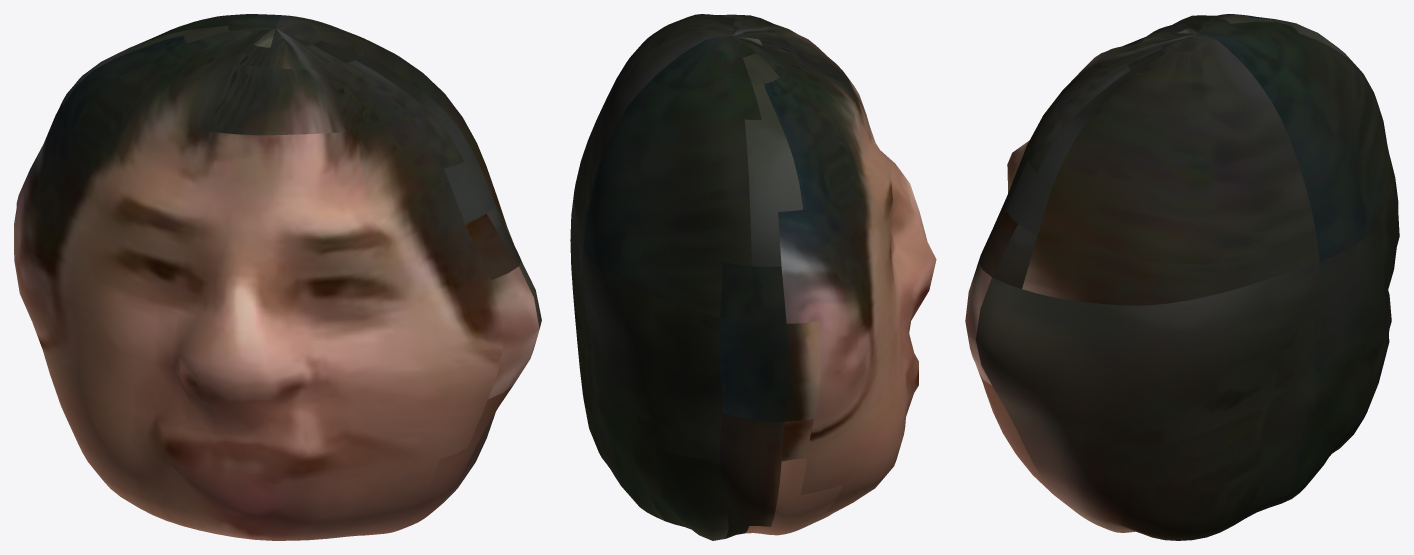
The model's file is carlosheadstretchhd.glb.
3 views of the same model, side by side, from view 1: azimuth 30°, elevation 25°; view 2: azimuth 150°, elevation 25°; view 3: azimuth 270°, elevation 25° (orthographic). The views are drawn at different scales.
Visible parts, largest first — view 1: Sphere; view 2: Sphere; view 3: Sphere.
Part boxes in pixels (x1,y1,x2,y2): Sphere: (14, 14, 541, 540); Sphere: (570, 14, 936, 540); Sphere: (965, 14, 1399, 540).
Size of the model in its own units: 2.89 by 3.66 by 3.08.
Materials: 1 (1 with a texture image).
